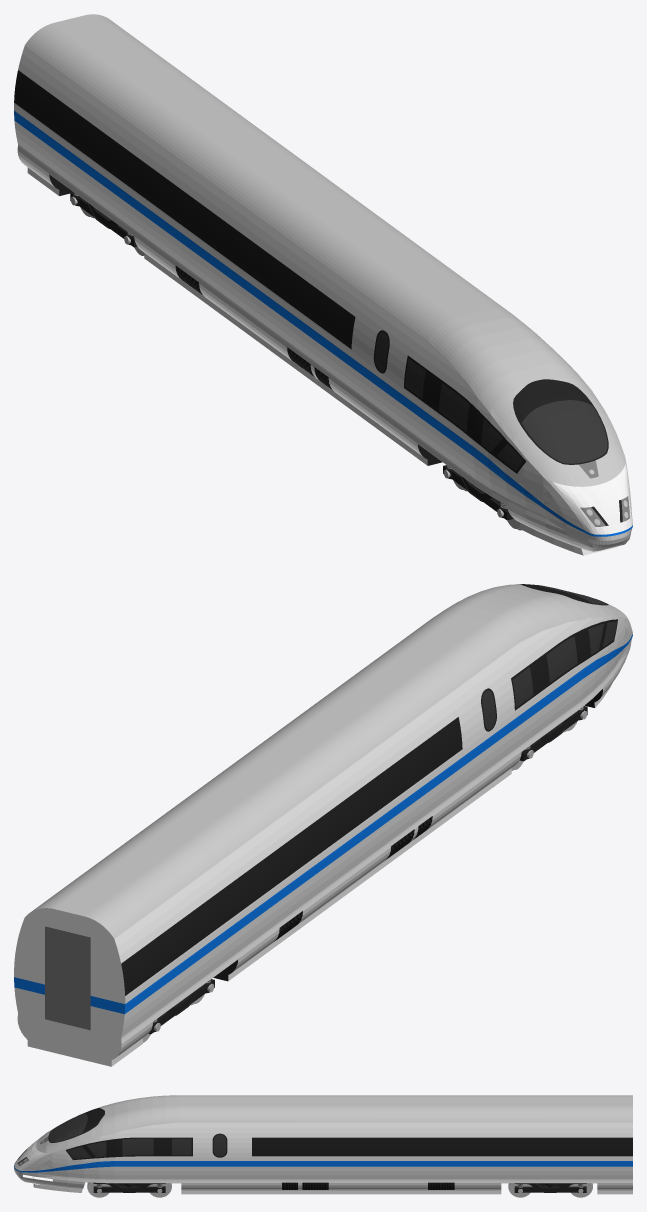
The model's file is VELARO-simple-car1.glb.
3 renders of one model, top to bottom at view 1: azimuth 30°, elevation 25°; view 2: azimuth 150°, elevation 25°; view 3: azimuth 270°, elevation 25°, orthographic. The views are drawn at different scales.
Parts seen in each view (by area): view 1: ny6ny6; view 2: ny6ny6; view 3: ny6ny6, wheel.007, wheel.001, wheel.005, wheel.003.
Part boxes in pixels (box(x1,y1,x2,y2)): ny6ny6: box(14, 14, 632, 555); ny6ny6: box(14, 584, 632, 1066); ny6ny6: box(14, 1095, 632, 1194); wheel.007: box(87, 1182, 110, 1197); wheel.001: box(569, 1183, 592, 1197); wheel.005: box(148, 1183, 171, 1197); wheel.003: box(508, 1183, 531, 1197).
Size of the model in its own units: 2.94 by 3.99 by 25.14.
Materials: 10 (2 with a texture image).
